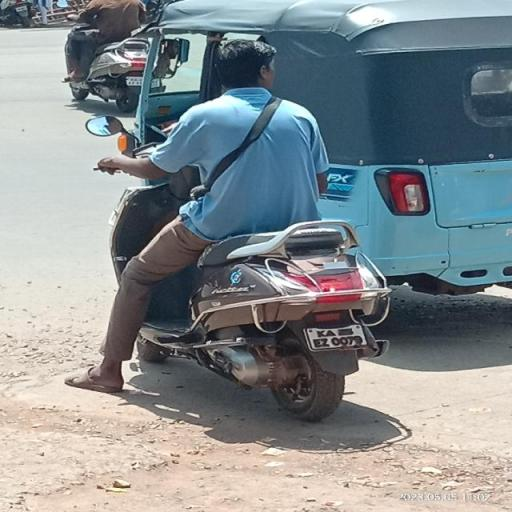bike: (81, 30, 411, 428)
numberplate: (306, 325, 370, 345)
withouthelmet: (218, 41, 278, 86)
